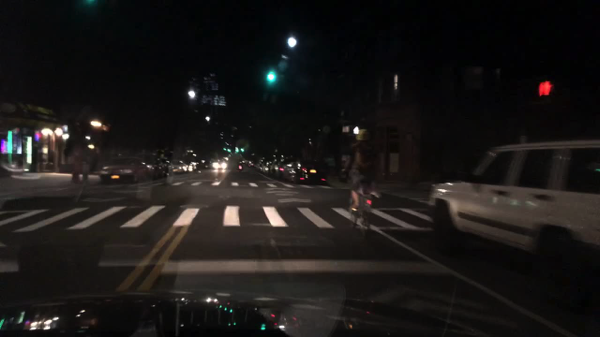bike: (340, 167, 384, 238), (237, 165, 245, 173)
car: (430, 142, 598, 266), (100, 154, 146, 183), (295, 161, 328, 184), (141, 155, 161, 180), (280, 159, 300, 180), (160, 158, 172, 177), (213, 159, 228, 170), (173, 161, 186, 173), (270, 162, 279, 177), (264, 162, 270, 176), (192, 162, 199, 172), (258, 162, 264, 173), (204, 161, 212, 169), (186, 162, 192, 172), (249, 162, 255, 168), (242, 159, 247, 165)
rider: (341, 127, 381, 218), (238, 159, 243, 168)
traffic light: (533, 80, 554, 100), (268, 71, 276, 85), (240, 148, 245, 154), (234, 148, 239, 154)
traffic sign: (519, 134, 528, 144), (323, 125, 331, 133), (342, 126, 350, 134)
